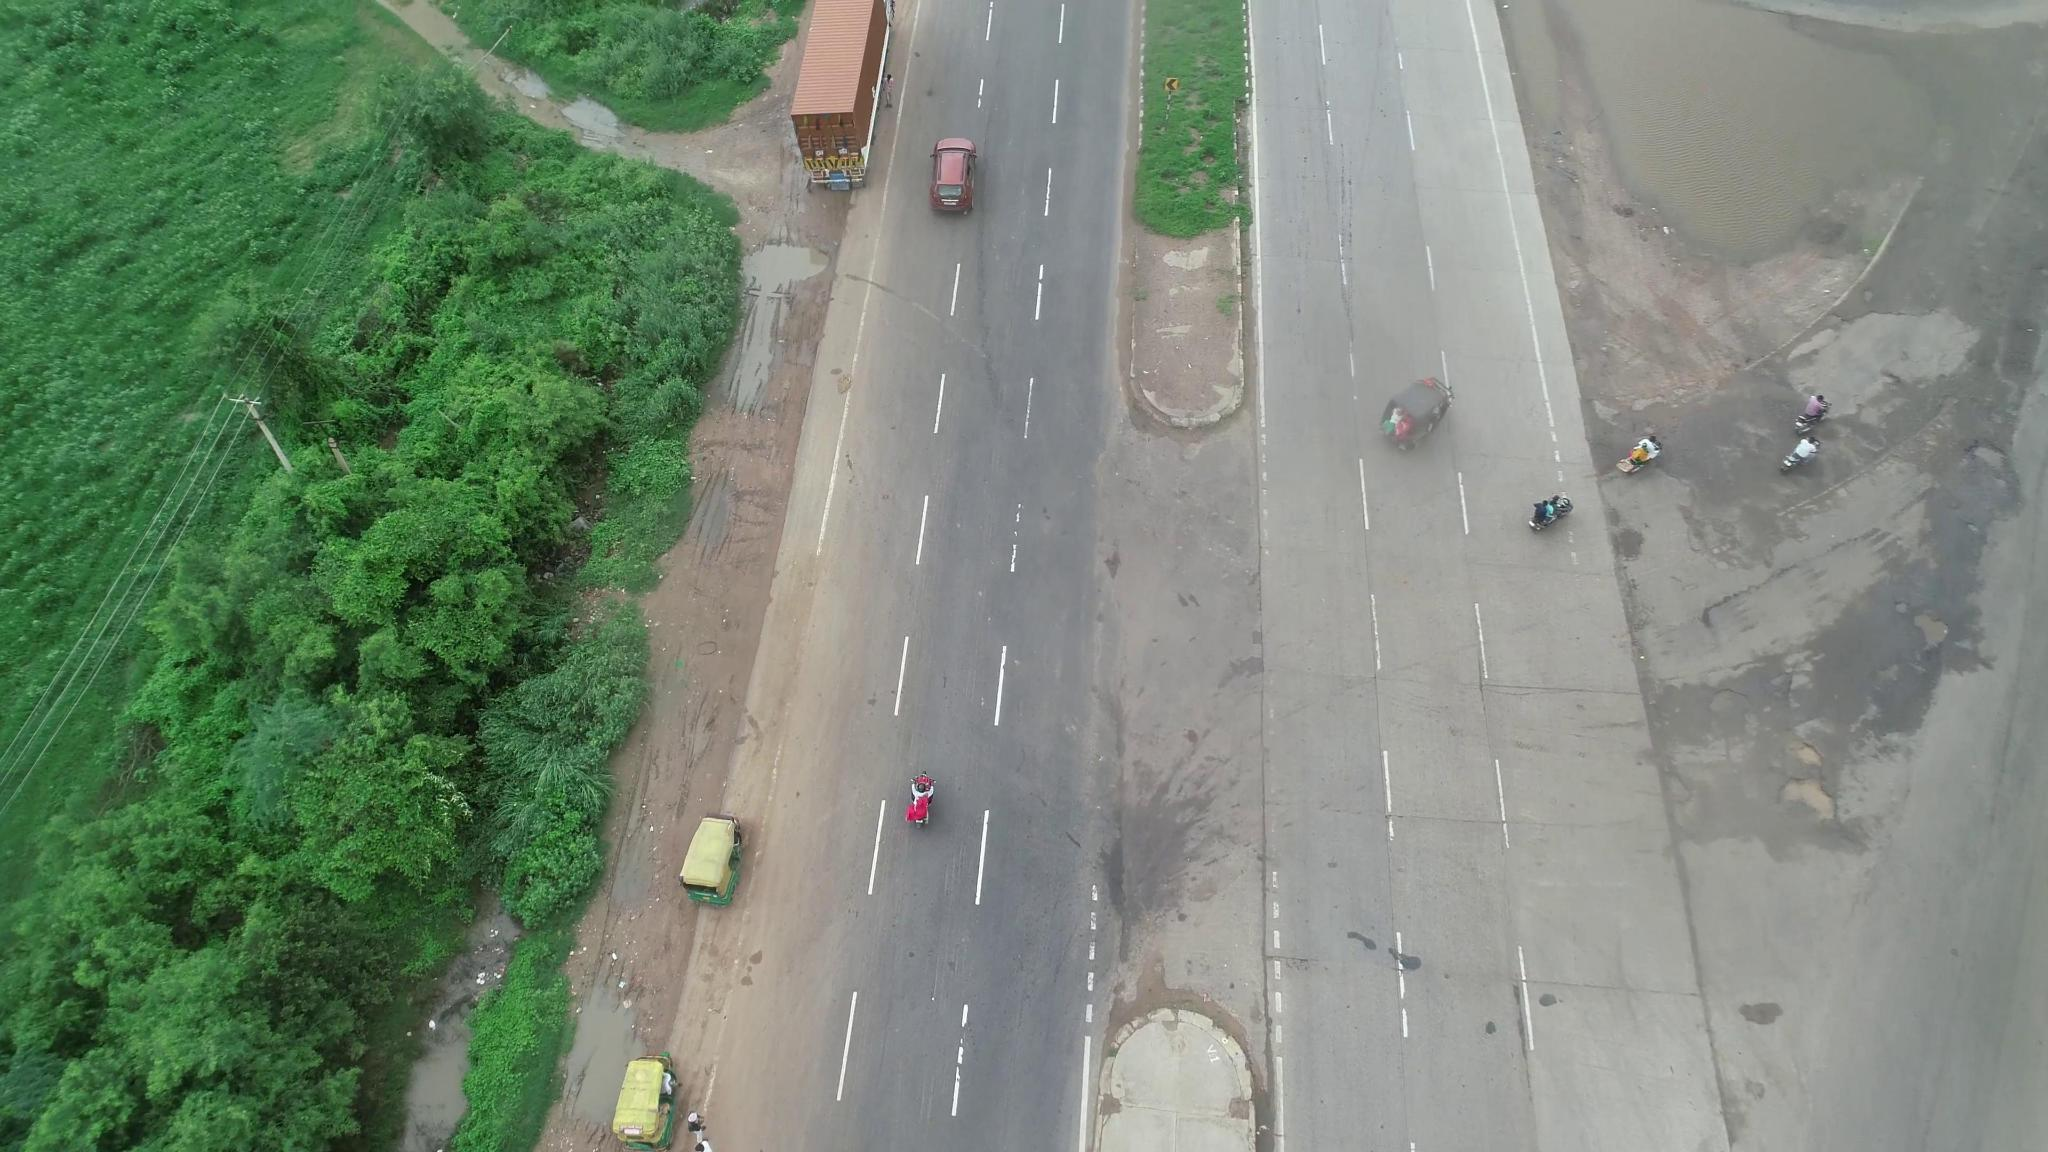Potholes: (1777, 717, 1867, 840), (1890, 580, 1978, 691), (1938, 425, 2041, 519)
